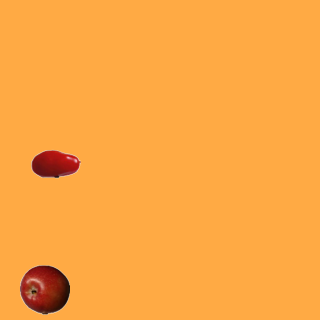Apple Braeburn: (19, 264, 69, 314)
Tomato 2: (30, 138, 80, 188)
